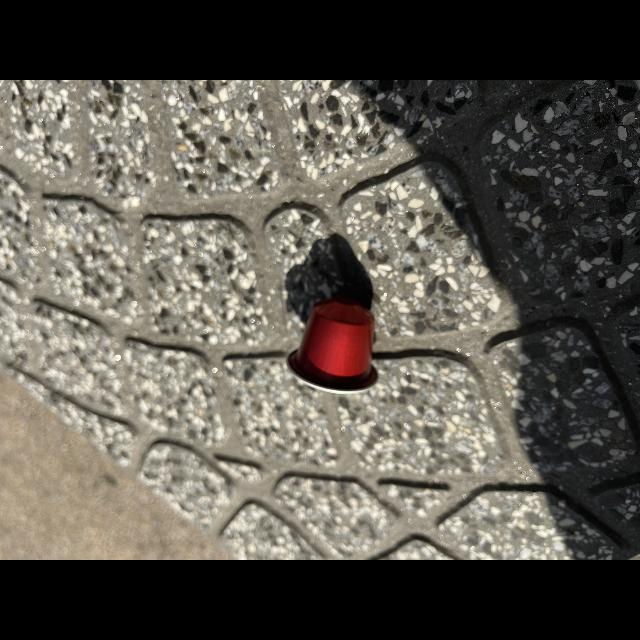intact_capsule: (282, 290, 388, 400)
